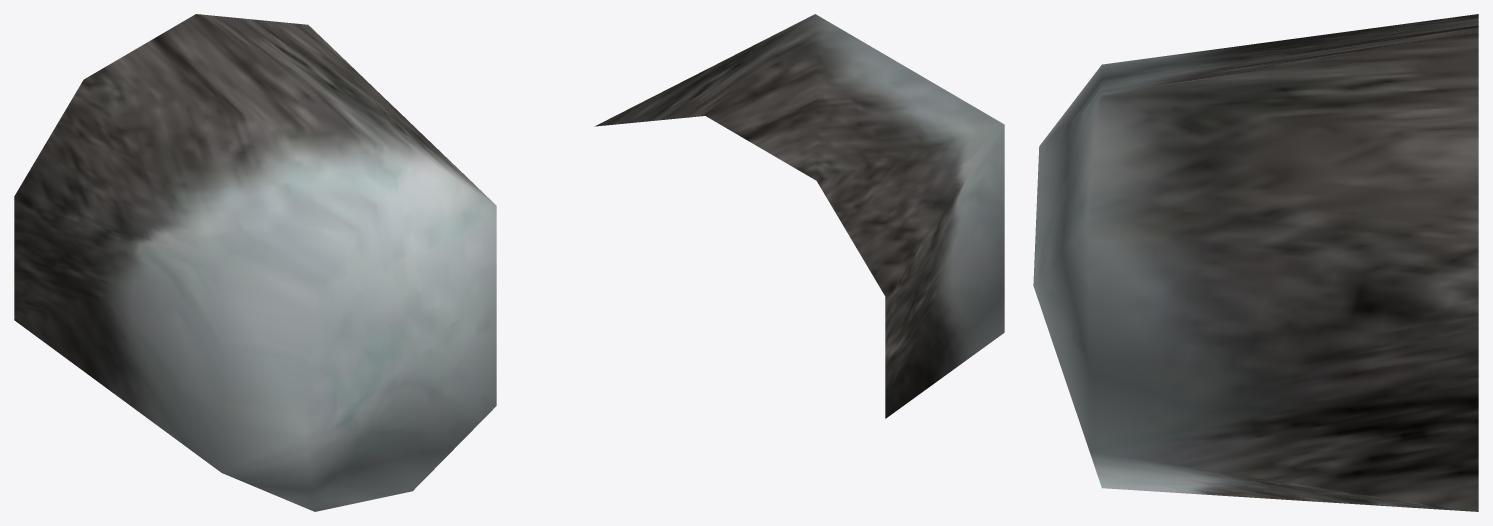
The picture shows the model from 3 angles, left to right: view 1: azimuth 30°, elevation 25°; view 2: azimuth 150°, elevation 25°; view 3: azimuth 270°, elevation 25°; orthographic projection. The views are drawn at different scales.
Visible parts, largest first — view 1: model_Object74; view 2: model_Object74; view 3: model_Object74.
Part boxes in pixels (bbox=[...]): model_Object74: bbox=[14, 14, 496, 511]; model_Object74: bbox=[594, 14, 1004, 418]; model_Object74: bbox=[1033, 14, 1478, 511].
Size of the model in its own units: 0.618 by 0.6498 by 0.5702.
Materials: 1 (1 with a texture image).
